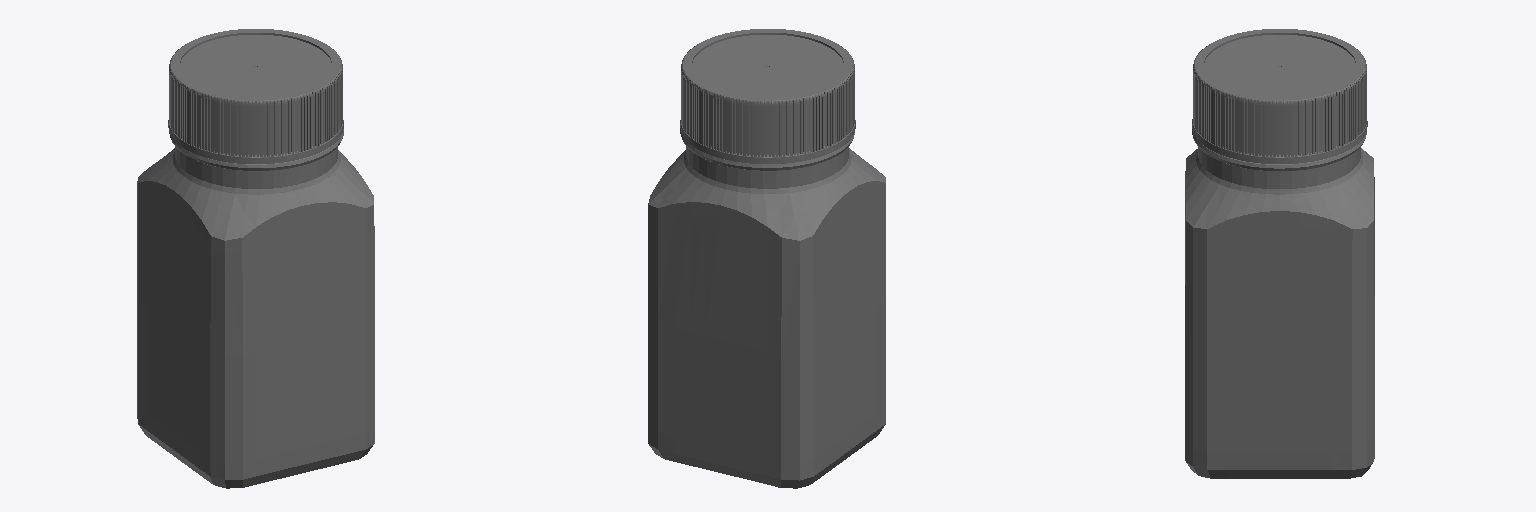
The model's file is bottle_2oz.obj.
3 views of the same model, side by side, from view 1: azimuth 30°, elevation 25°; view 2: azimuth 150°, elevation 25°; view 3: azimuth 270°, elevation 25° (orthographic).
Parts seen in each view (by area): view 1: Plastic_Square_Bottle_2oz, Plastic_Cap_2oz; view 2: Plastic_Square_Bottle_2oz, Plastic_Cap_2oz; view 3: Plastic_Square_Bottle_2oz, Plastic_Cap_2oz.
Part boxes in pixels (left/top/right/bottom): Plastic_Square_Bottle_2oz: left=137, top=129, right=374, bottom=488; Plastic_Cap_2oz: left=168, top=29, right=343, bottom=163; Plastic_Square_Bottle_2oz: left=648, top=128, right=885, bottom=488; Plastic_Cap_2oz: left=680, top=29, right=855, bottom=163; Plastic_Square_Bottle_2oz: left=1185, top=129, right=1374, bottom=478; Plastic_Cap_2oz: left=1192, top=29, right=1367, bottom=163.
Size of the model in its own units: 3.2 by 7.12 by 3.2.